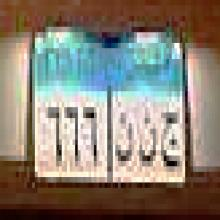6: (82, 102, 101, 169), (46, 102, 62, 163), (65, 103, 77, 165)
jeem: (159, 111, 181, 169)
noon: (139, 111, 156, 170), (116, 113, 134, 162)
